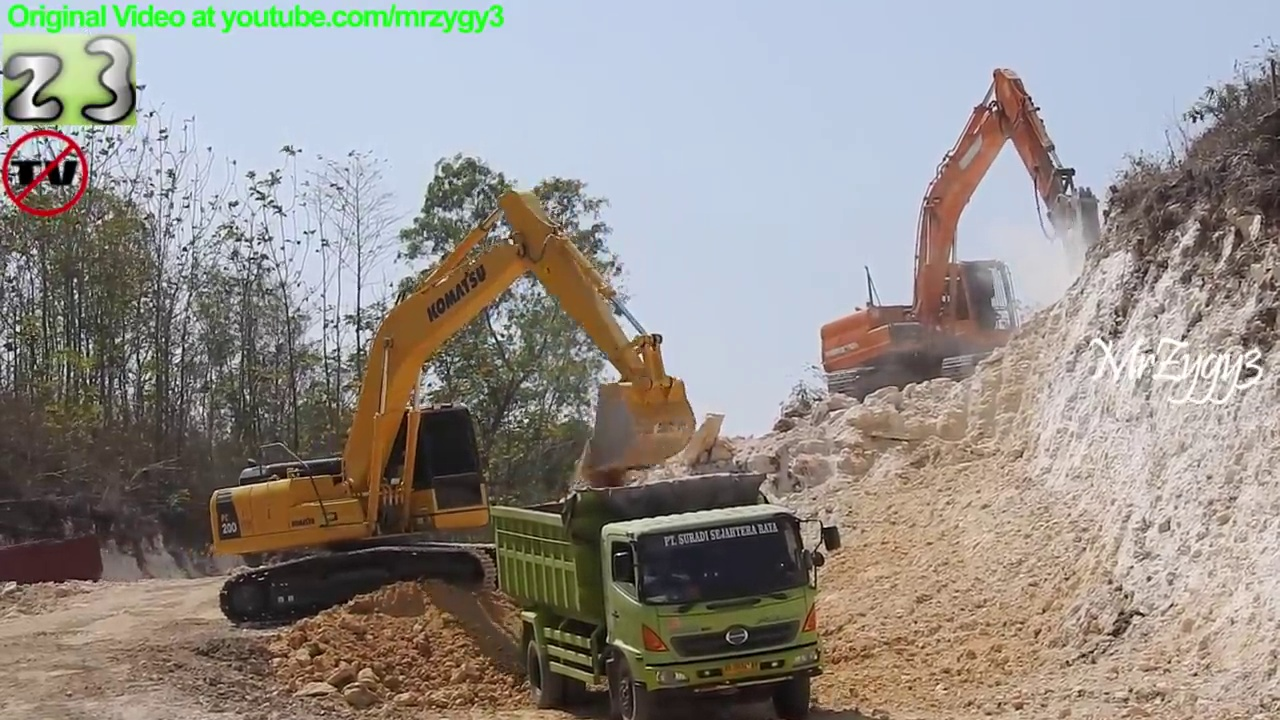excavator: (206, 189, 706, 633), (815, 61, 1116, 416)
truck: (488, 469, 844, 720)
